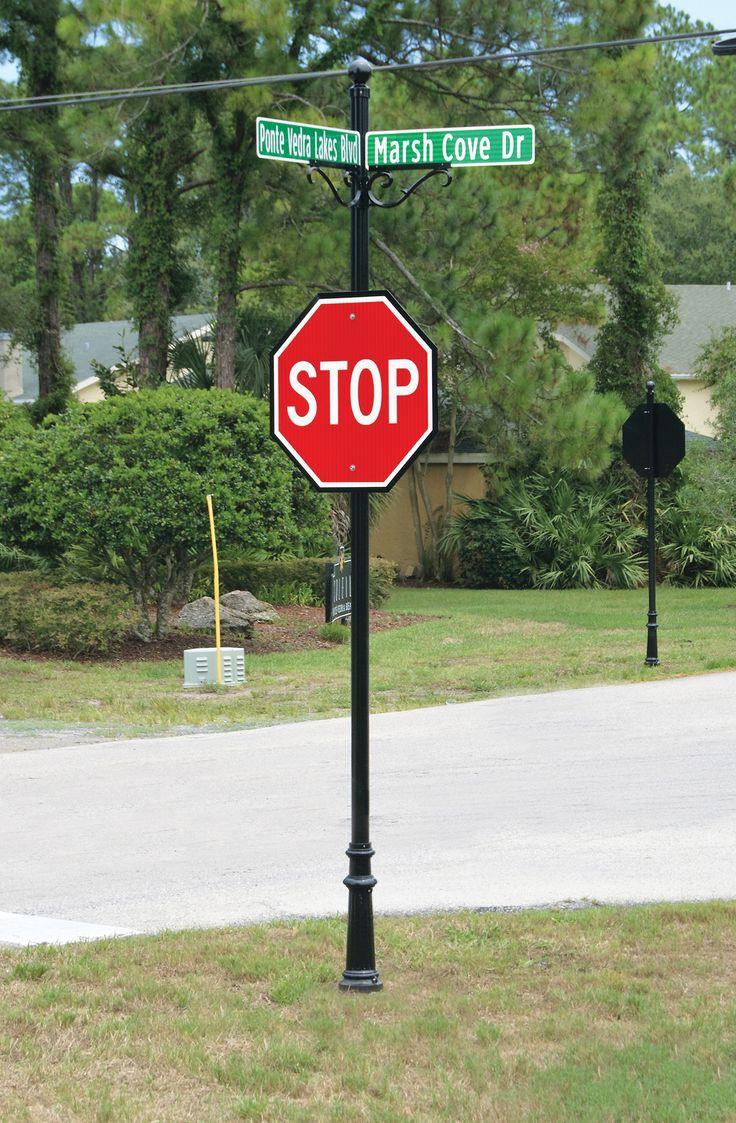Pole: (344, 498, 377, 986), (645, 476, 659, 659)
Sign: (276, 300, 426, 483), (619, 401, 689, 479)
